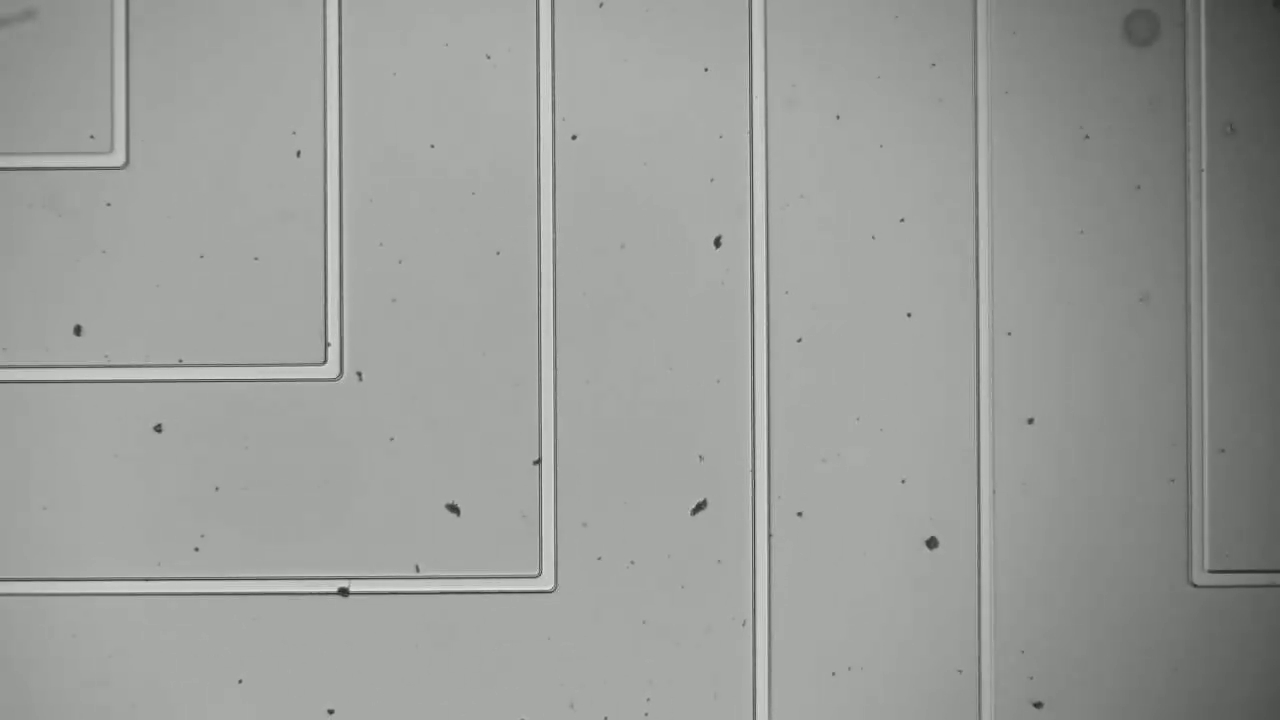stains_enbedded: (330, 571, 360, 604)
